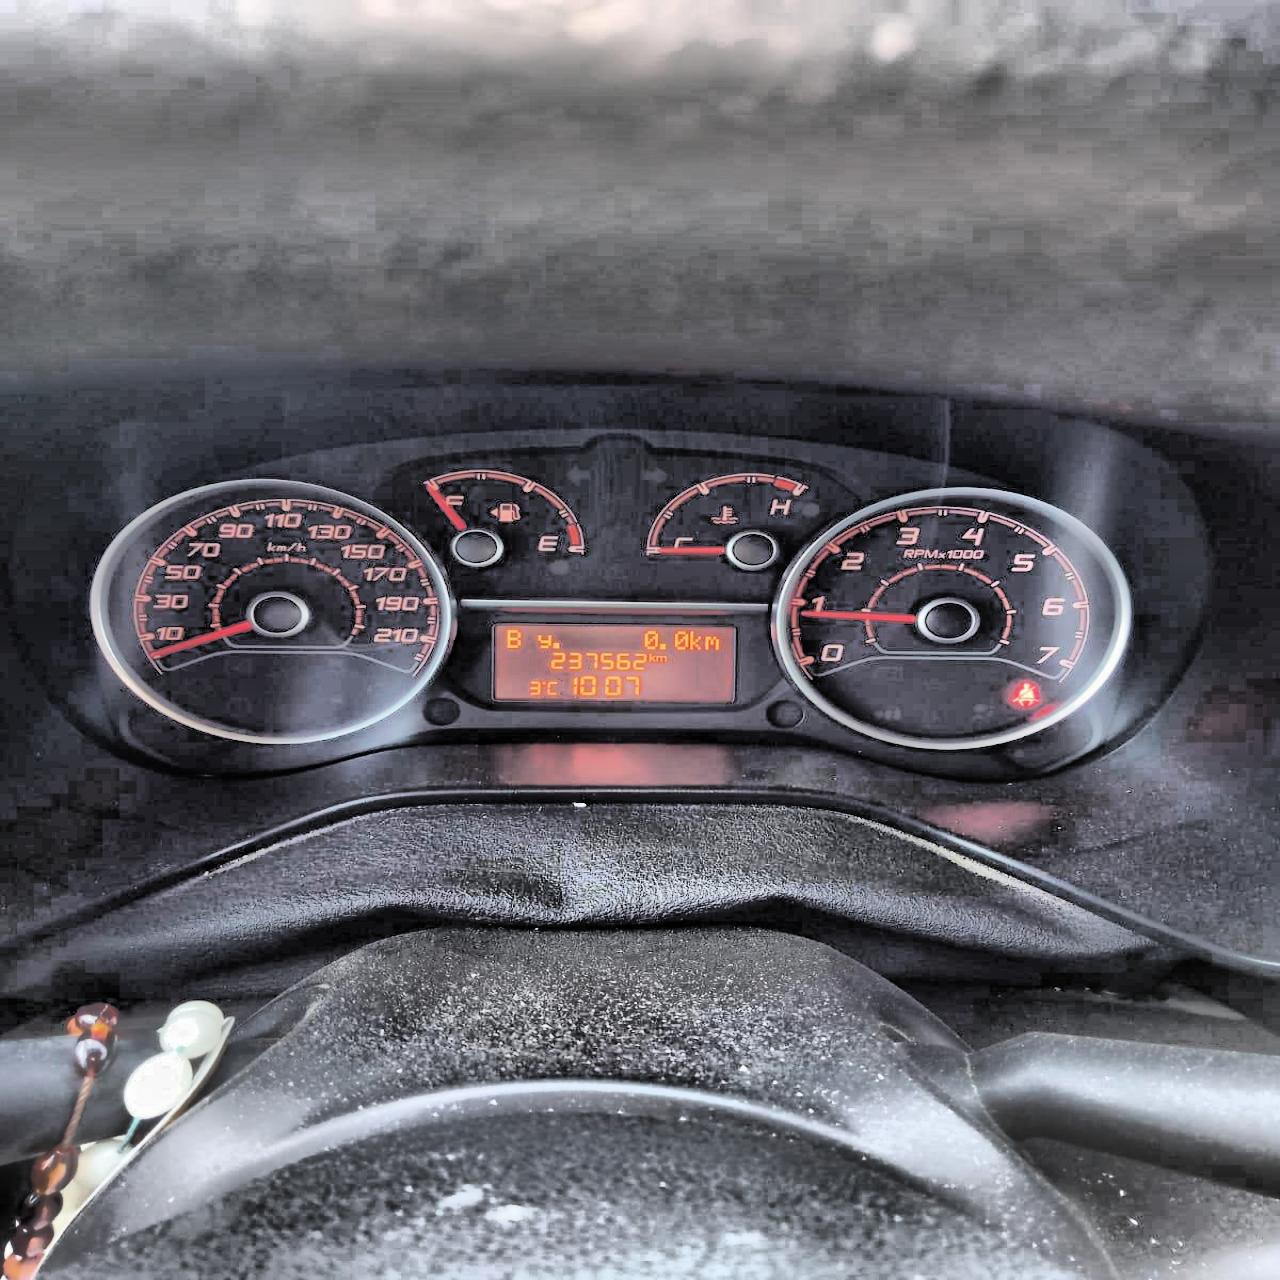-: (551, 641, 559, 648), (659, 642, 666, 649)
0: (578, 675, 595, 695), (602, 675, 620, 695), (673, 631, 688, 649), (644, 631, 658, 649)
1: (572, 675, 578, 694)
2: (550, 652, 565, 669), (632, 652, 647, 669)
3: (566, 652, 581, 669), (529, 680, 539, 694)
5: (599, 652, 613, 669)
6: (614, 652, 631, 669)
7: (624, 675, 639, 695), (585, 652, 598, 669)
X: (505, 628, 520, 648), (688, 629, 701, 649), (703, 635, 719, 649), (537, 633, 551, 648), (546, 681, 558, 694), (655, 654, 666, 661), (647, 653, 655, 661)
odometer: (490, 621, 736, 704)
